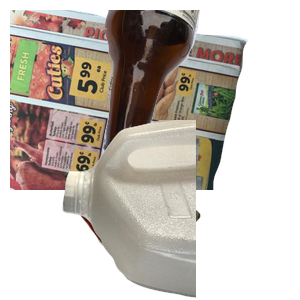glass: (99, 10, 300, 170)
paper: (10, 10, 250, 190)
plastic: (60, 120, 300, 300)
trash: (65, 148, 258, 300)
